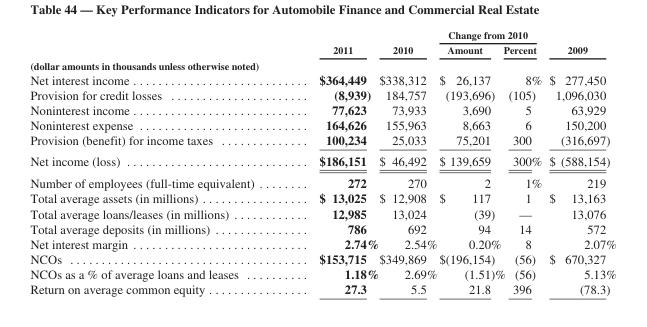table: (29, 28, 615, 296)
table column: (29, 28, 286, 296), (286, 28, 378, 296), (544, 28, 615, 296), (437, 28, 503, 296), (378, 28, 437, 296), (503, 28, 544, 296)
table column header: (29, 28, 615, 57)
table projected row header: (29, 57, 615, 71)
table row: (29, 149, 615, 171), (29, 171, 615, 190), (29, 132, 615, 149), (29, 101, 615, 117), (29, 250, 615, 266), (29, 42, 615, 57), (29, 71, 615, 86), (29, 86, 615, 101), (29, 117, 615, 132), (29, 190, 615, 205), (29, 205, 615, 220), (29, 220, 615, 235), (29, 235, 615, 250), (29, 266, 615, 281), (29, 281, 615, 296), (29, 28, 615, 42), (29, 57, 615, 71)
table spanning cell: (286, 28, 378, 57), (544, 28, 615, 57), (378, 28, 437, 57), (437, 28, 544, 42)
